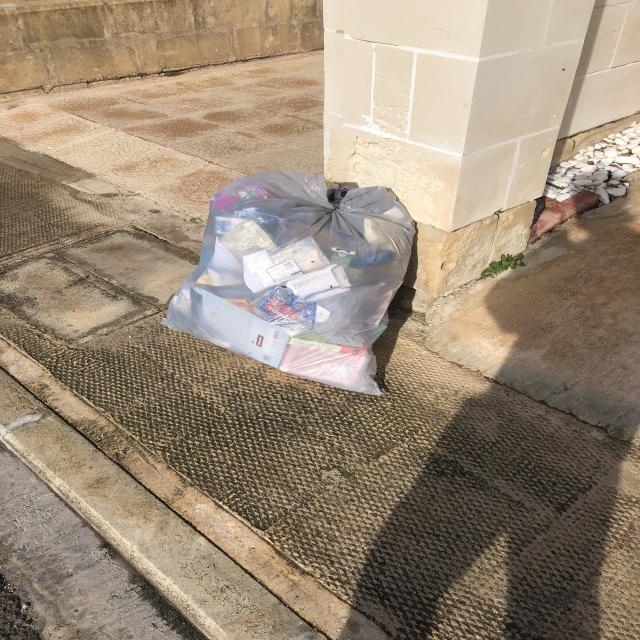Recycled Waste -Grey or Green Bag-: (157, 162, 421, 403)
